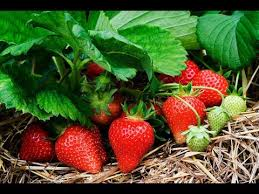ripe: (108, 114, 153, 175), (54, 125, 105, 174), (160, 90, 205, 142), (17, 125, 56, 164), (189, 68, 229, 105), (161, 57, 201, 89), (89, 96, 123, 124), (84, 54, 107, 79)
unripe: (220, 92, 248, 121), (186, 121, 208, 156), (207, 106, 229, 135)
